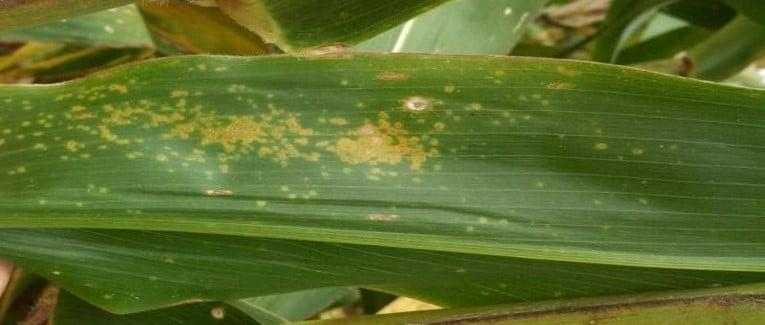Corn rust leaf: (1, 39, 765, 317)
